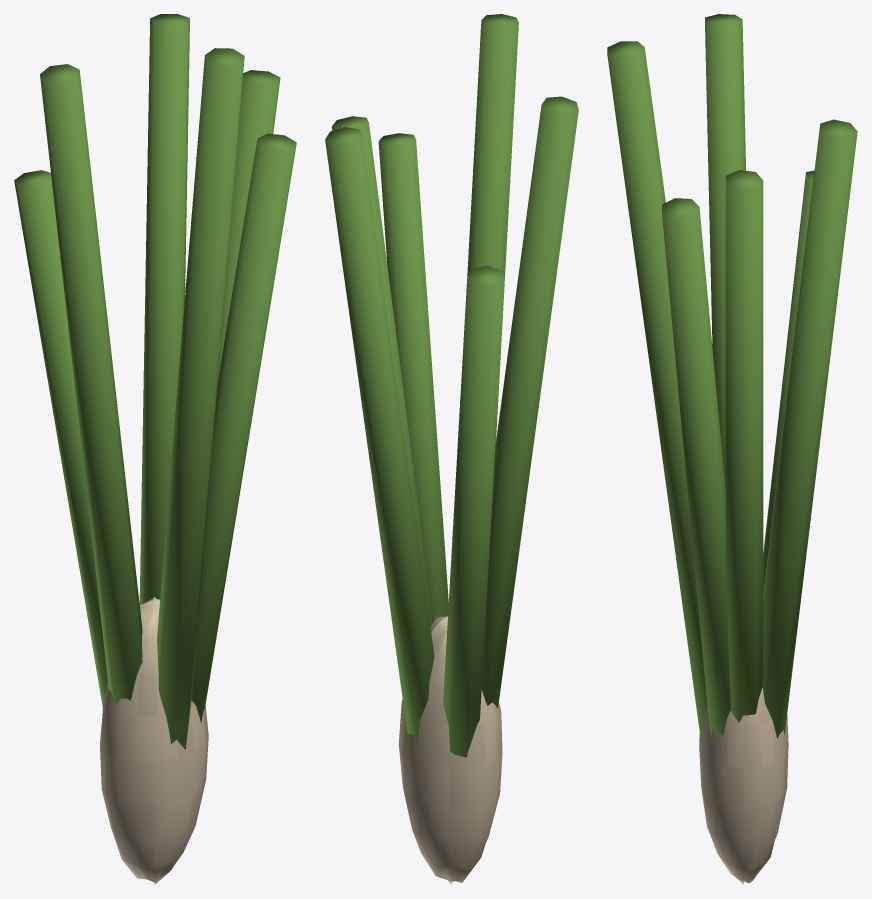
File: Scallion.glb
3 renders of one model, left to right at view 1: azimuth 30°, elevation 25°; view 2: azimuth 150°, elevation 25°; view 3: azimuth 270°, elevation 25°, orthographic. The views are drawn at different scales.
Parts seen in each view (by area): view 1: Scallion; view 2: Scallion; view 3: Scallion.
Boxes of the visible parts, bbox=[...] form: Scallion: bbox=[14, 14, 296, 884]; Scallion: bbox=[325, 14, 578, 884]; Scallion: bbox=[607, 14, 857, 884].
Size of what is drawn, in the model's own units: 0.0554 by 0.1875 by 0.0505.
